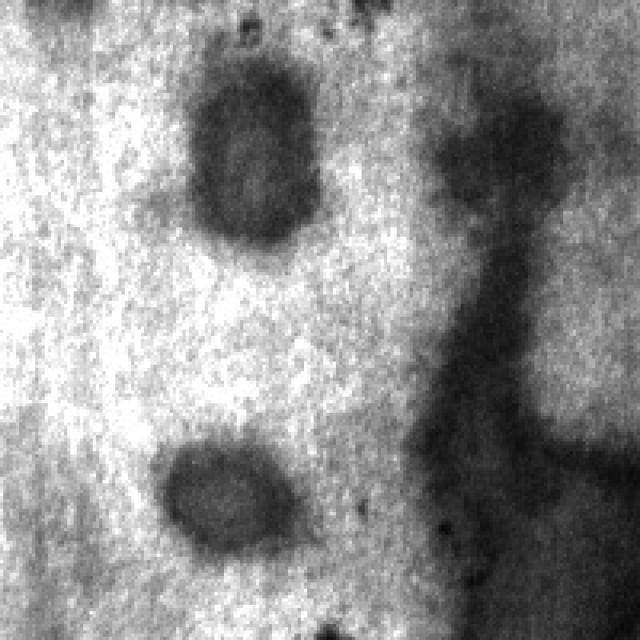patches: (419, 252, 637, 634), (182, 26, 317, 243), (419, 74, 576, 240), (150, 432, 304, 554)
